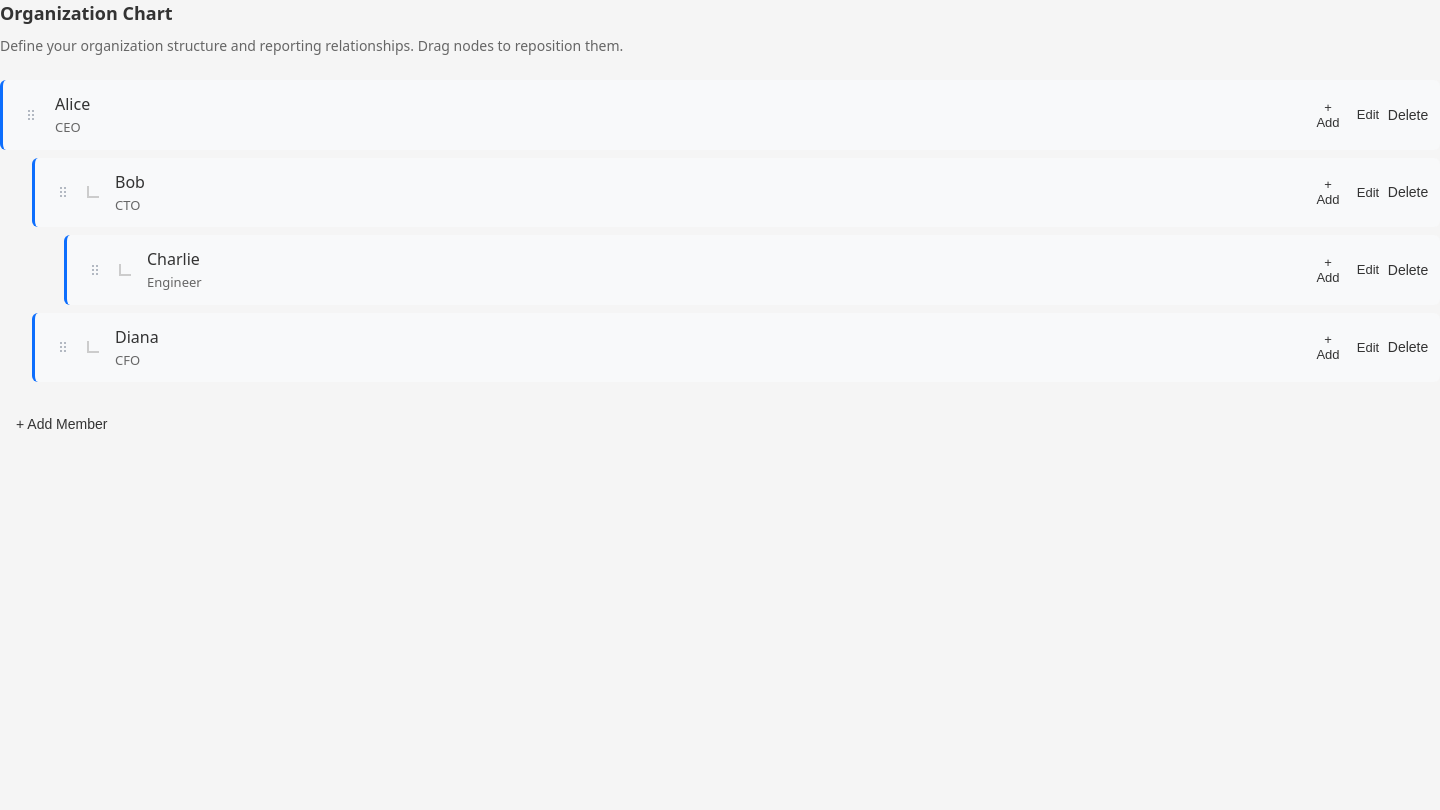
Test case: OrgChartEditor › Deleting nodes › closes modal without deleting when Cancel is clicked
The width and height of the screenshot is (1440, 810).
Click the button with aria-label "Delete Charlie".
click(1408, 270)  # box [1392,254,1424,286]
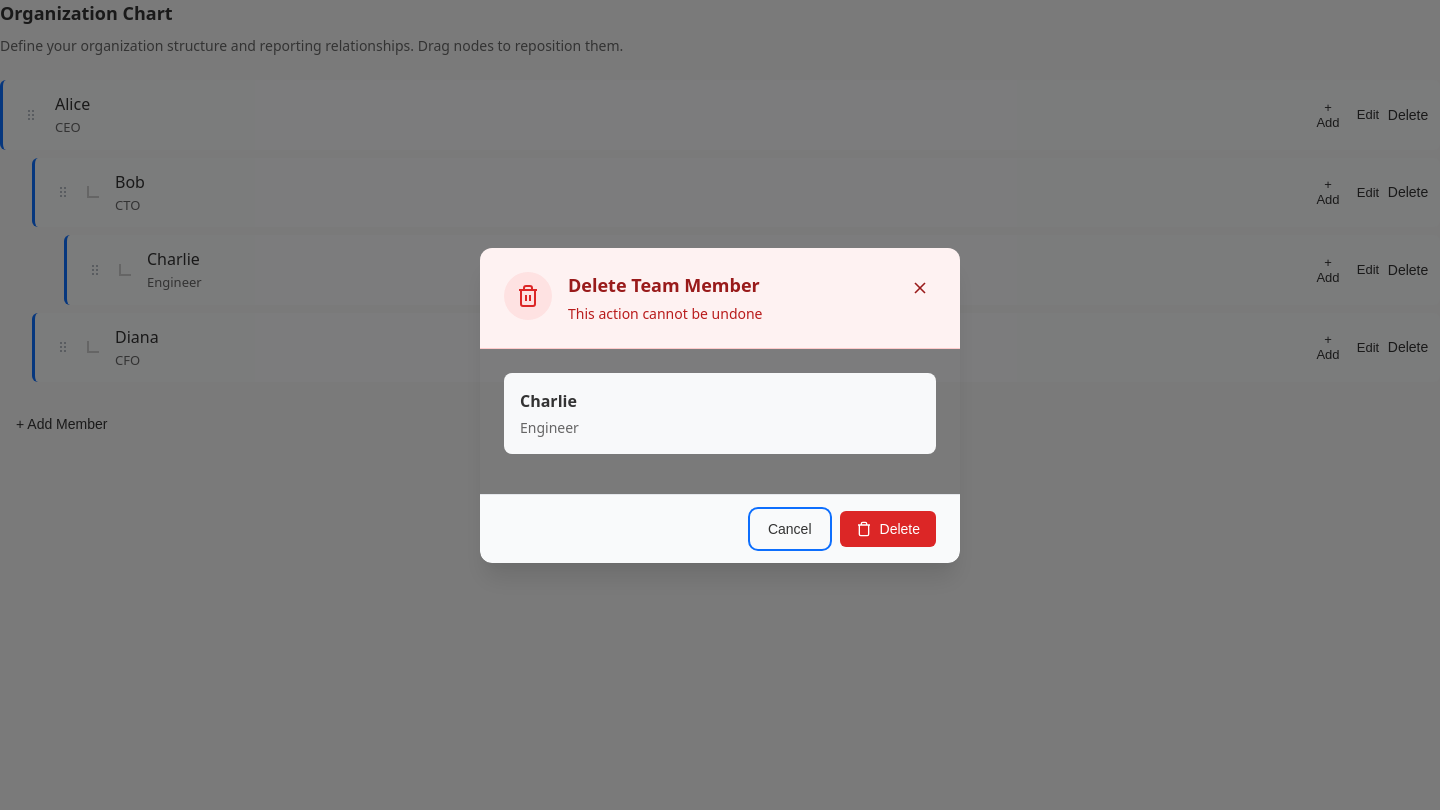
Click the button "Cancel".
click(790, 528)  # box [752,510,828,546]
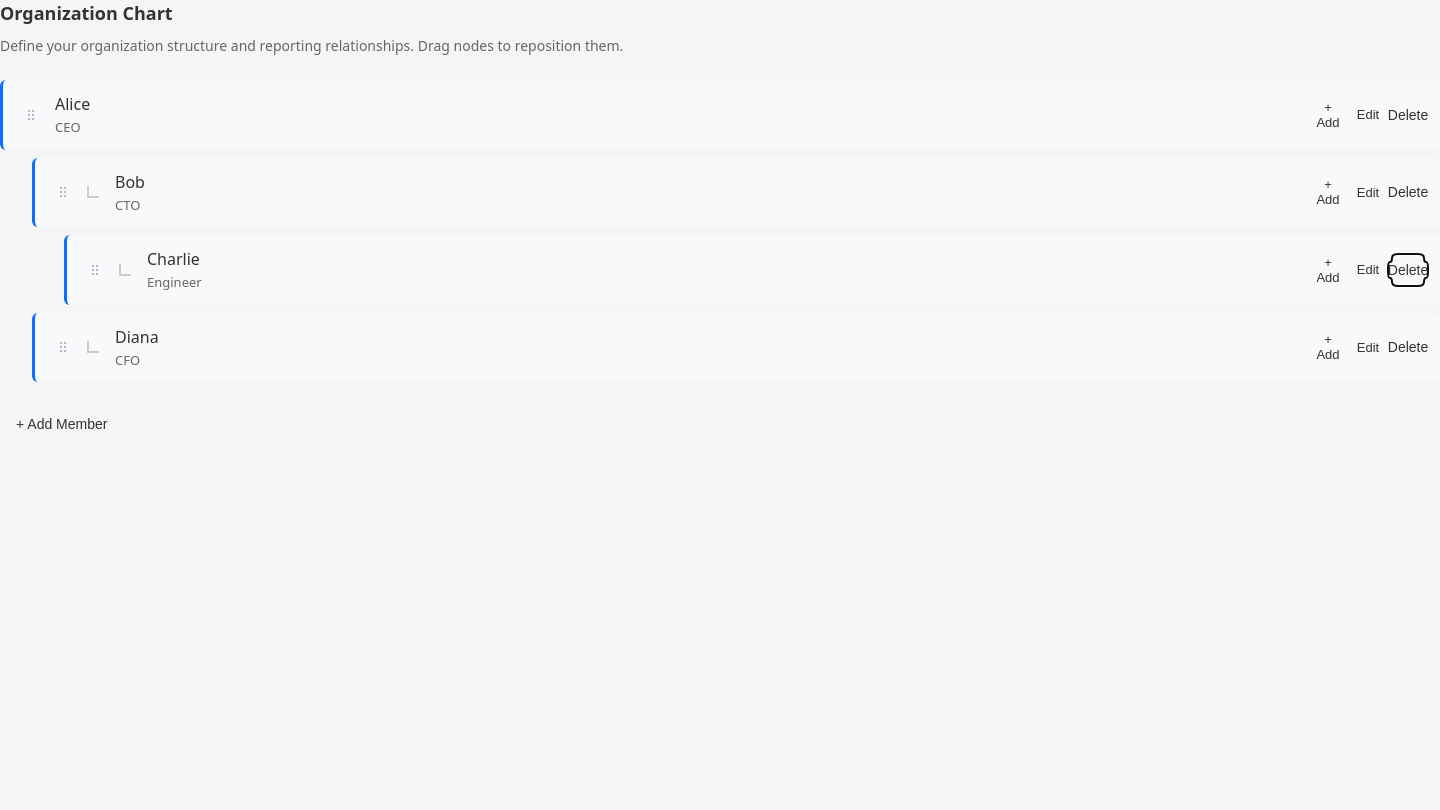
Now the heading "Delete Team Member" is gone
